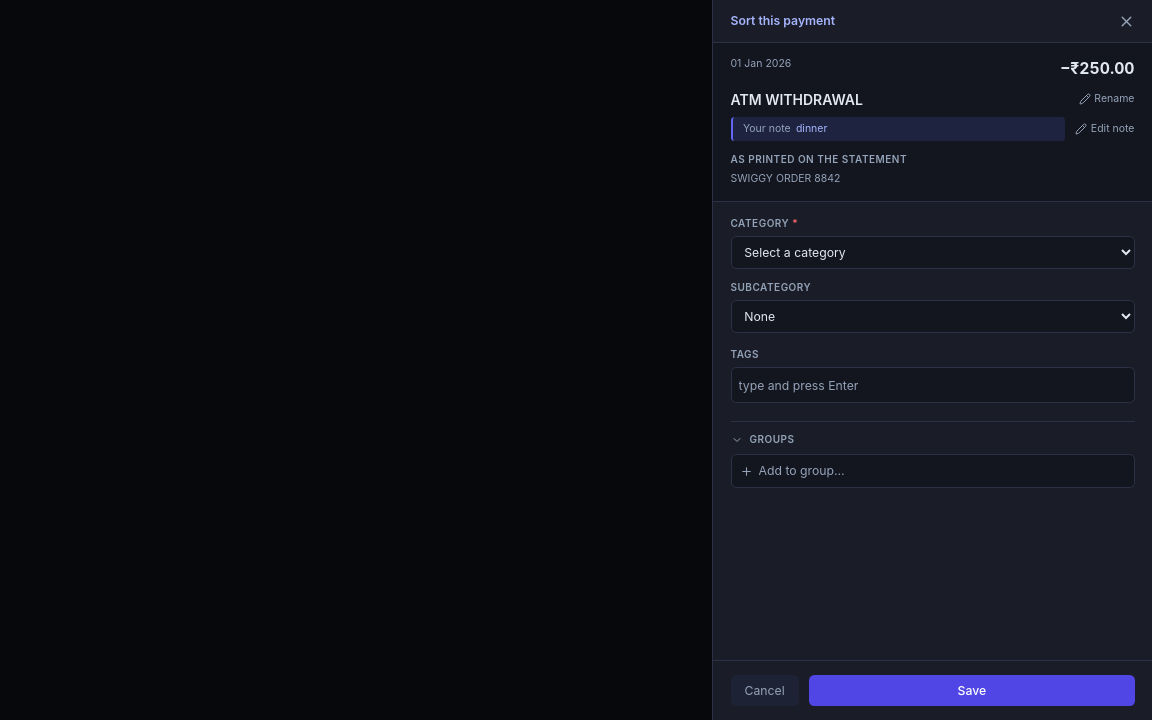
Test: AnnotationPanel naming › offers only this payment when the line has no payee to rename
Click the button "Rename". click: click(1107, 99)
box: [1079, 92, 1134, 106]
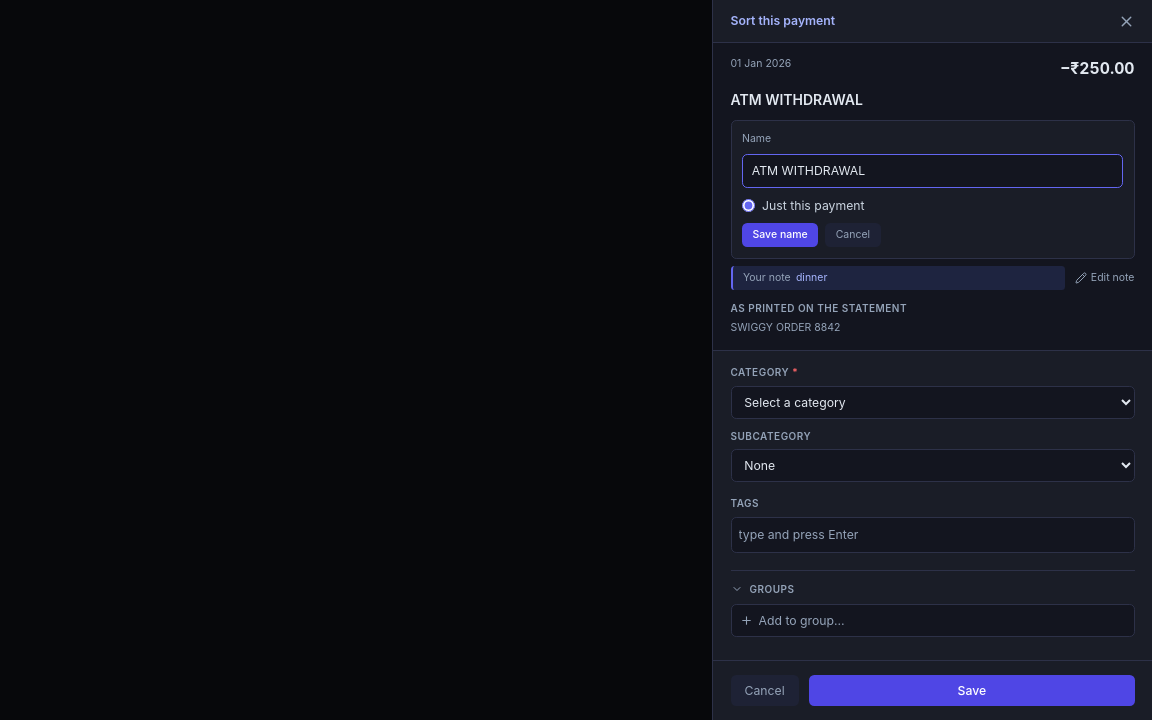
Expected: the radio button labelled "Just this payment" is checked, [742, 199, 755, 212]
